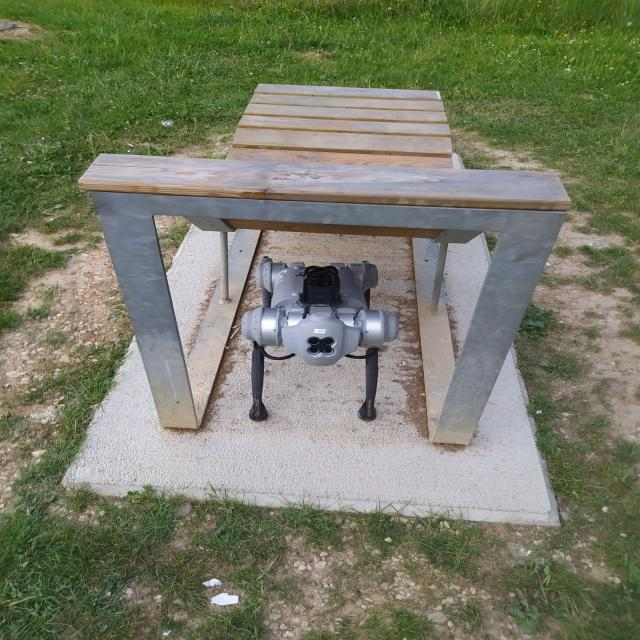unitree-go1-robot: (227, 244, 416, 434)
